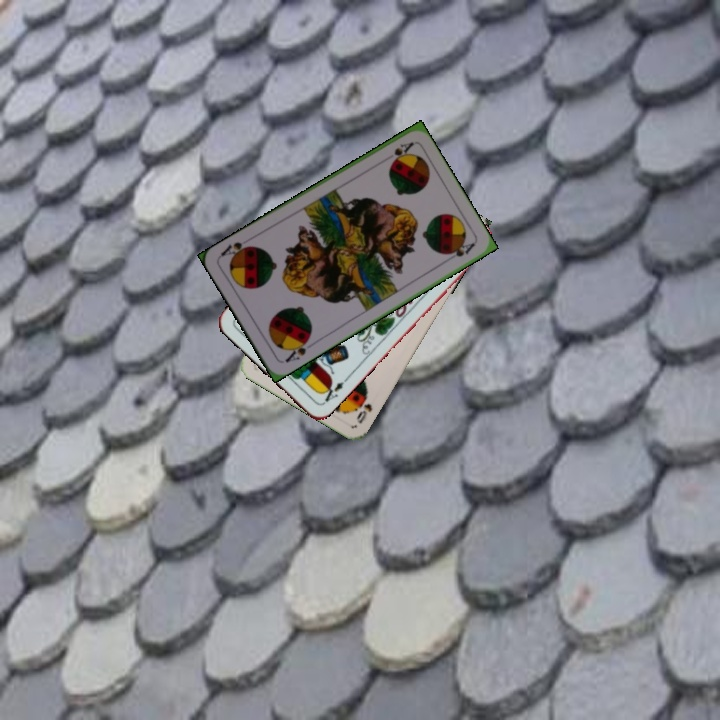EA: (317, 374, 350, 405)
SA: (281, 333, 312, 365), (388, 138, 416, 164)
SO: (352, 392, 375, 426)
